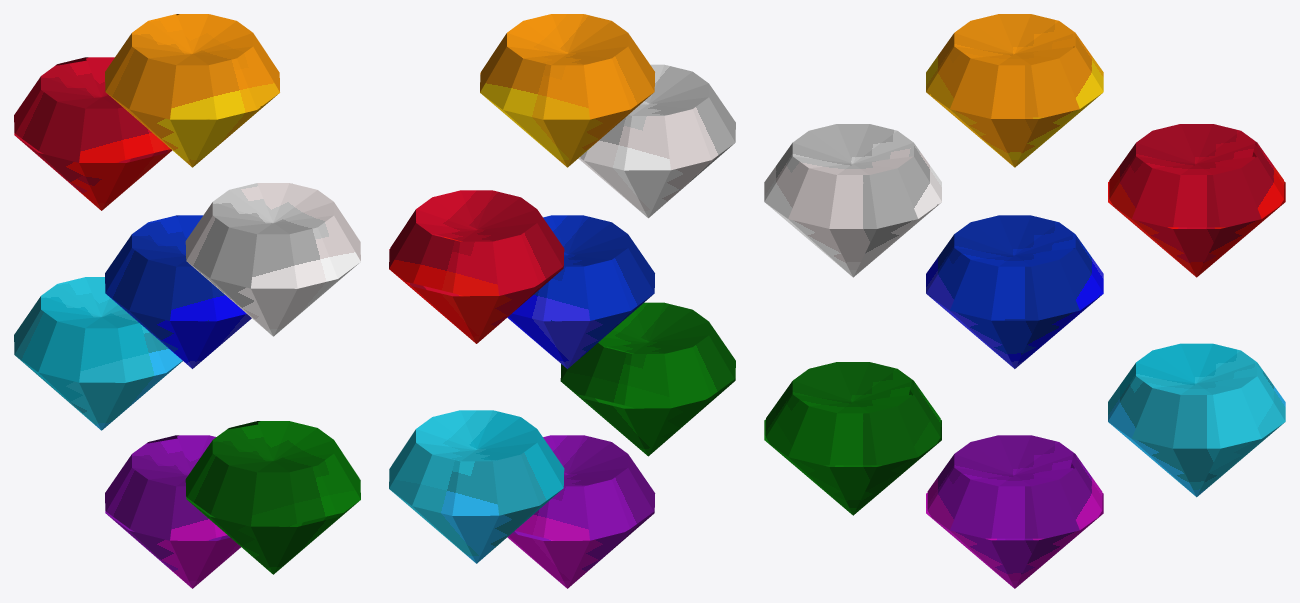
The model's file is emeralds.glb.
3 views of the same model, side by side, from view 1: azimuth 30°, elevation 25°; view 2: azimuth 150°, elevation 25°; view 3: azimuth 270°, elevation 25° (orthographic).
Visible parts, largest first — view 1: cylinder_2, cylinder_4, cylinder_6, cylinder_10, cylinder_8, cylinder_0, cylinder_12; view 2: cylinder_10, cylinder_8, cylinder_6, cylinder_2, cylinder_4, cylinder_0, cylinder_12; view 3: cylinder_10, cylinder_0, cylinder_12, cylinder_6, cylinder_2, cylinder_4, cylinder_8.
Part boxes in pixels (<box>): cylinder_2: <box>185,421,360,574</box>; cylinder_4: <box>185,183,360,336</box>; cylinder_6: <box>105,14,279,167</box>; cylinder_10: <box>14,277,182,430</box>; cylinder_8: <box>14,57,172,210</box>; cylinder_0: <box>105,215,251,368</box>; cylinder_12: <box>105,435,240,588</box>; cylinder_10: <box>389,410,564,563</box>; cylinder_8: <box>389,190,564,343</box>; cylinder_6: <box>480,14,654,167</box>; cylinder_2: <box>560,302,735,456</box>; cylinder_4: <box>578,64,735,218</box>; cylinder_0: <box>507,215,654,368</box>; cylinder_12: <box>507,435,655,588</box>; cylinder_10: <box>1108,343,1285,497</box>; cylinder_0: <box>926,215,1103,368</box>; cylinder_12: <box>926,435,1103,588</box>; cylinder_6: <box>926,14,1103,167</box>; cylinder_2: <box>764,362,941,515</box>; cylinder_4: <box>764,124,941,277</box>; cylinder_8: <box>1108,124,1285,277</box>.
Bounding box in the file's own units: 0.5375 × 1.88 × 1.61.
7 materials, 7 textured.
